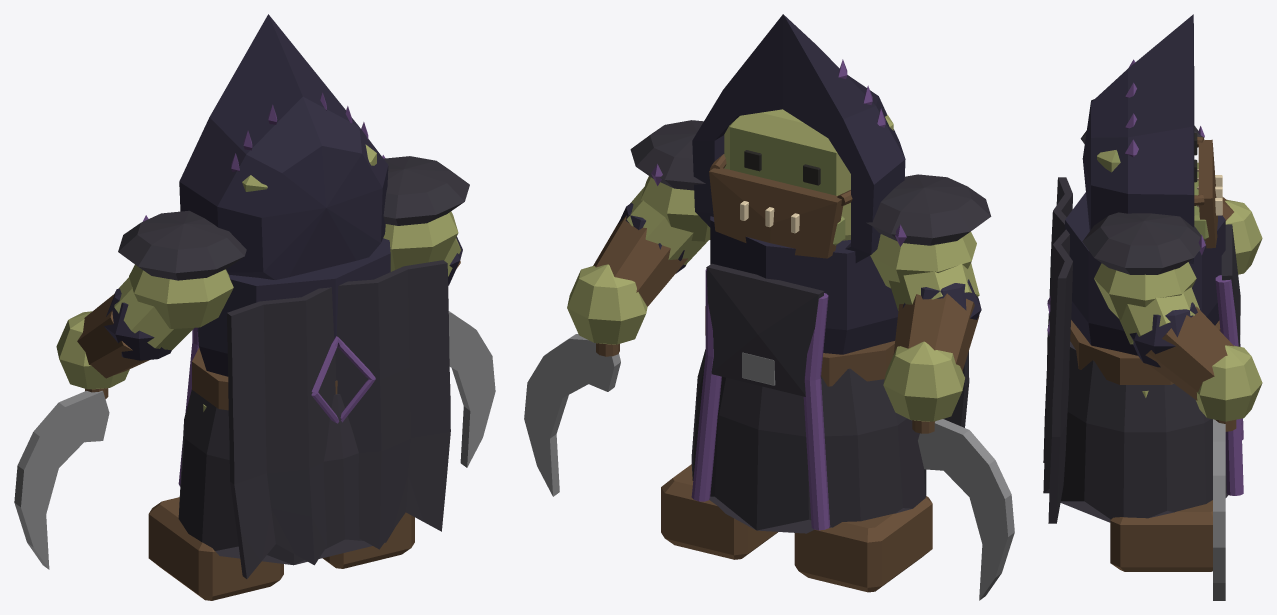
The model's file is host_18.glb.
The picture shows the model from 3 angles, left to right: view 1: azimuth 30°, elevation 25°; view 2: azimuth 150°, elevation 25°; view 3: azimuth 270°, elevation 25°; orthographic projection. The views are drawn at different scales.
Visible parts, largest first — view 1: V6 silent executioner real long folded charcoal rune cloak, V6 source fitted domed cloth hood, V6 silent executioner actual long folded charcoal skirt, V6 silent executioner actual fitted charcoal cloth shoulder  (×2), V6 silent executioner actual whole curved crescent cleaver.0, Grounded boot L, Tailored continuous bodice, V6 silent executioner actual whole curved crescent cleaver, Connected shoulder L, Connected shoulder R, Forearm L, Grasping hand L (+5 smaller); view 2: V6 silent executioner actual long folded charcoal skirt, V6 source fitted domed cloth hood, V6 silent executioner source fitted dark leather breast garm, Tailored continuous bodice, V6 silent executioner actual fitted charcoal cloth shoulder  (×2), Grounded boot L, V6 silent executioner source leather lower face mask, V6 silent executioner actual whole curved crescent cleaver.0, Observed face, V6 silent executioner actual whole curved crescent cleaver, Grounded boot R, Grasping hand L (+12 smaller); view 3: V6 silent executioner actual long folded charcoal skirt, V6 source fitted domed cloth hood, V6 silent executioner real long folded charcoal rune cloak, Tailored continuous bodice, Grounded boot R, V6 silent executioner actual fitted charcoal cloth shoulder , Forearm R, Grasping hand R, Connected shoulder R, Continuous leather waist belt, V6 silent executioner actual whole curved crescent cleaver, V6 silent executioner actual contacting purple robe facing.0 (+7 smaller).
Part boxes in pixels (<box>): V6 silent executioner real long folded charcoal rune cloak: <box>227,260,450,578</box>; V6 source fitted domed cloth hood: <box>179,14,388,279</box>; V6 silent executioner actual long folded charcoal skirt: <box>178,389,394,565</box>; V6 silent executioner actual fitted charcoal cloth shoulder  (×2): <box>118,156,469,280</box>; V6 silent executioner actual whole curved crescent cleaver.0: <box>14,390,109,569</box>; Grounded boot L: <box>148,497,283,600</box>; Tailored continuous bodice: <box>197,238,390,376</box>; V6 silent executioner actual whole curved crescent cleaver: <box>448,311,495,467</box>; Connected shoulder L: <box>129,264,233,328</box>; Connected shoulder R: <box>383,211,458,271</box>; Forearm L: <box>77,293,149,378</box>; Grasping hand L: <box>56,311,129,389</box>; V6 silent executioner actual long folded charcoal skirt: <box>691,349,926,533</box>; V6 source fitted domed cloth hood: <box>692,14,905,262</box>; V6 silent executioner source fitted dark leather breast garm: <box>706,263,824,396</box>; Tailored continuous bodice: <box>710,216,898,354</box>; V6 silent executioner actual fitted charcoal cloth shoulder  (×2): <box>630,120,991,245</box>; Grounded boot L: <box>794,496,932,592</box>; V6 silent executioner source leather lower face mask: <box>709,168,843,258</box>; V6 silent executioner actual whole curved crescent cleaver.0: <box>918,419,1014,600</box>; Observed face: <box>724,109,893,240</box>; V6 silent executioner actual whole curved crescent cleaver: <box>524,334,620,496</box>; Grounded boot R: <box>661,464,777,559</box>; Grasping hand L: <box>883,341,964,421</box>; V6 silent executioner actual long folded charcoal skirt: <box>1060,341,1228,522</box>; V6 source fitted domed cloth hood: <box>1082,14,1194,263</box>; V6 silent executioner real long folded charcoal rune cloak: <box>1043,177,1072,523</box>; Tailored continuous bodice: <box>1065,192,1225,355</box>; Grounded boot R: <box>1110,500,1212,571</box>; V6 silent executioner actual fitted charcoal cloth shoulder : <box>1082,212,1205,274</box>; Forearm R: <box>1145,306,1233,400</box>; Grasping hand R: <box>1196,345,1262,421</box>; Connected shoulder R: <box>1094,262,1196,319</box>; Continuous leather waist belt: <box>1070,320,1220,384</box>; V6 silent executioner actual whole curved crescent cleaver: <box>1213,419,1225,600</box>; V6 silent executioner actual contacting purple robe facing.0: <box>1215,275,1243,495</box>.
Bounding box in the file's own units: 1.5 × 1.62 × 0.6277.
